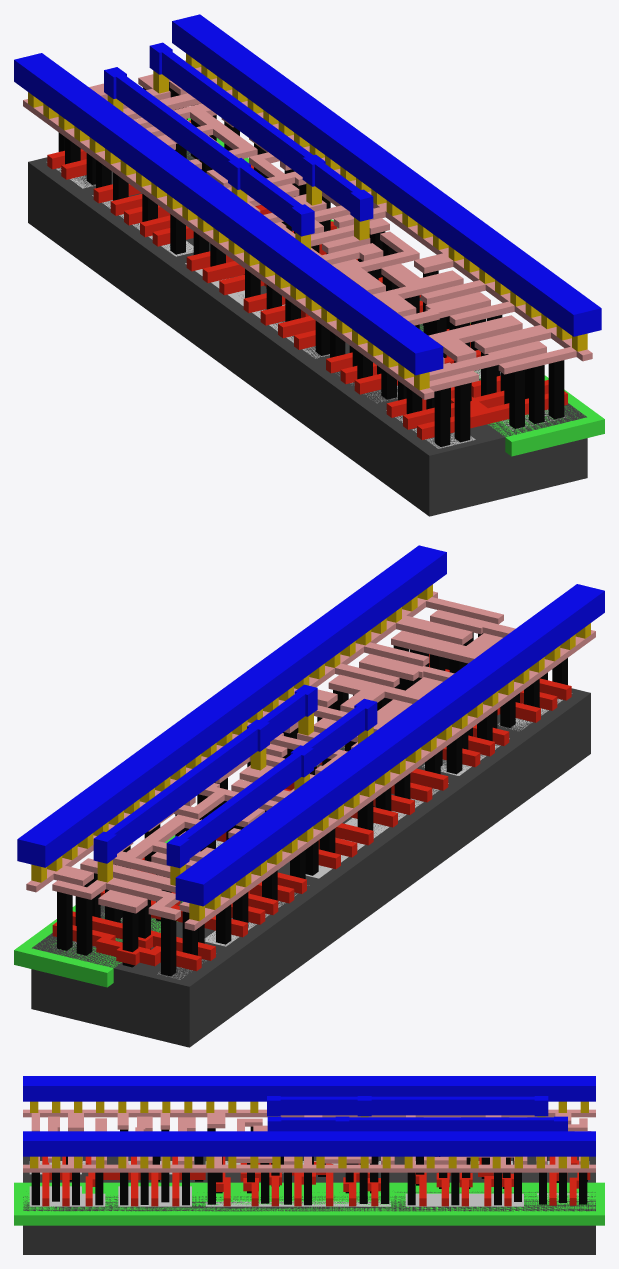
File: sky130_fd_sc_hd__sdfxbp_2.obj
3 renders of one model, top to bottom at view 1: azimuth 30°, elevation 25°; view 2: azimuth 150°, elevation 25°; view 3: azimuth 270°, elevation 25°, orthographic. The views are drawn at different scales.
Visible parts, largest first — view 1: metal1, subs, li, licon, poly, mcon, nwell, diff; view 2: metal1, subs, li, licon, poly, mcon, nwell, diff; view 3: metal1, subs, nwell, li, licon, poly, mcon, tap.
Boxes of the visible parts, bbox=[...] form: metal1: bbox=[14, 14, 601, 375]; subs: bbox=[28, 150, 587, 516]; li: bbox=[23, 60, 592, 399]; licon: bbox=[58, 82, 564, 446]; poly: bbox=[47, 120, 567, 439]; mcon: bbox=[28, 53, 587, 390]; nwell: bbox=[187, 118, 604, 456]; diff: bbox=[46, 162, 475, 448]; metal1: bbox=[17, 545, 604, 906]; subs: bbox=[31, 688, 590, 1047]; li: bbox=[26, 591, 595, 930]; licon: bbox=[57, 632, 567, 976]; poly: bbox=[52, 654, 571, 971]; mcon: bbox=[31, 584, 590, 921]; nwell: bbox=[14, 835, 182, 987]; diff: bbox=[157, 693, 572, 979]; metal1: bbox=[23, 1076, 595, 1156]; subs: bbox=[23, 1156, 595, 1254]; nwell: bbox=[14, 1182, 604, 1225]; li: bbox=[23, 1109, 595, 1172]; licon: bbox=[31, 1126, 587, 1205]; poly: bbox=[42, 1156, 590, 1206]; mcon: bbox=[30, 1101, 588, 1168]; tap: bbox=[29, 1186, 589, 1206].
Size of the model in its own units: 3.2 by 2.74 by 12.34.
